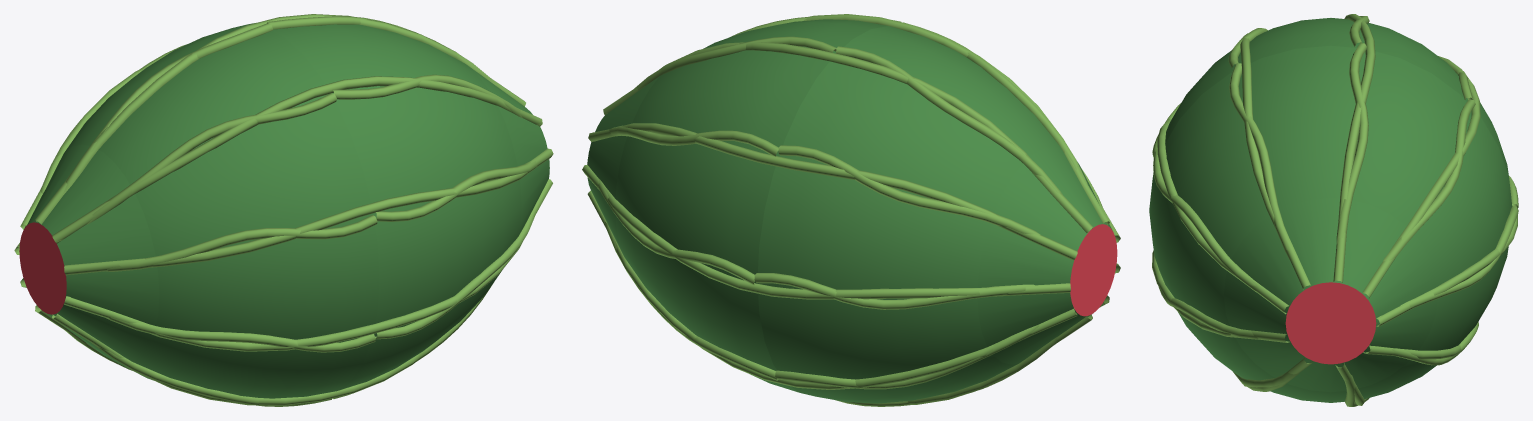
File: melon.glb
3 views of the same model, side by side, from view 1: azimuth 30°, elevation 25°; view 2: azimuth 150°, elevation 25°; view 3: azimuth 270°, elevation 25° (orthographic). The views are drawn at different scales.
Visible parts, largest first — view 1: melon_halfA_geometry, melon_halfB_geometry, melon_whole_geometry; view 2: melon_halfA_geometry, melon_halfB_geometry, melon_whole_geometry; view 3: melon_halfB_geometry, melon_whole_geometry, melon_halfA_geometry.
Boxes of the visible parts, box(x1,y1,x2,y2) form: melon_halfA_geometry: box(15, 23, 379, 406); melon_halfB_geometry: box(249, 16, 549, 398); melon_whole_geometry: box(14, 14, 553, 405); melon_halfA_geometry: box(754, 22, 1119, 406); melon_halfB_geometry: box(585, 17, 900, 392); melon_whole_geometry: box(582, 14, 1120, 404); melon_halfB_geometry: box(1149, 43, 1518, 406); melon_whole_geometry: box(1152, 14, 1517, 405); melon_halfA_geometry: box(1152, 16, 1518, 208).
Size of the model in its own units: 0.7593 by 0.5197 by 0.5185.
